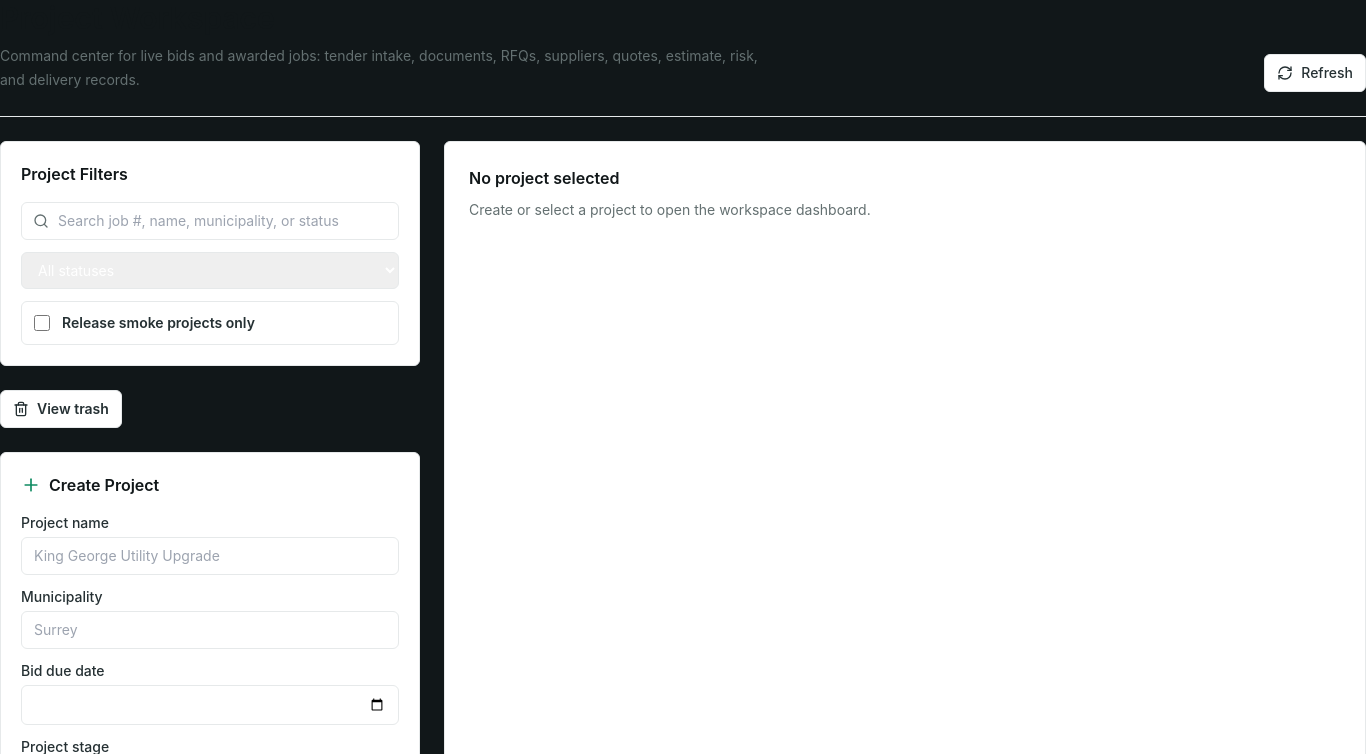
Test: ProjectWorkspacePage › moves only the filtered release smoke projects to recoverable trash after confirmation
Click the checkbox labelled "Release smoke projects only": {"x": 42, "y": 323} [34,315,50,331]
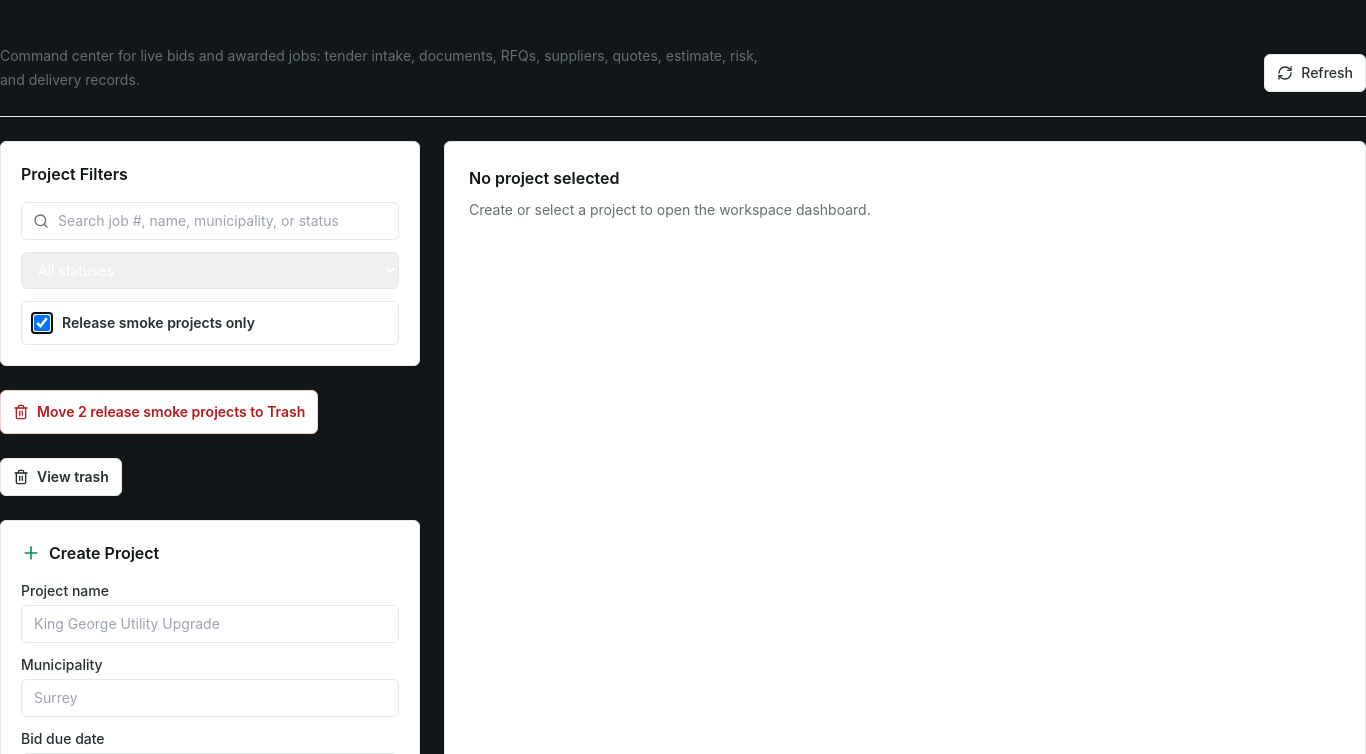
Click the button "Move 2 release smoke projects to Trash": {"x": 159, "y": 412} [0,390,318,434]
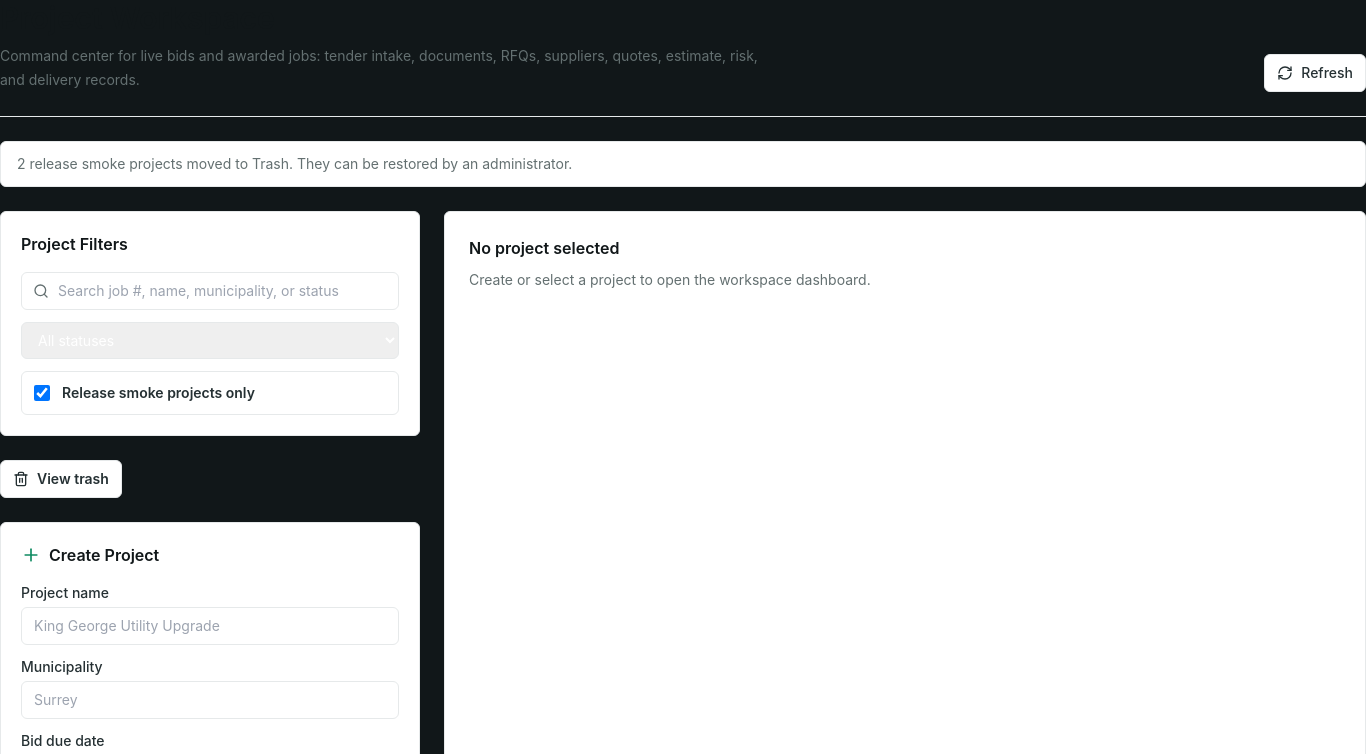
Check: the text "2 release smoke projects moved to Trash. They can be restored by an administrator." is shown, box [17,155,572,172]
